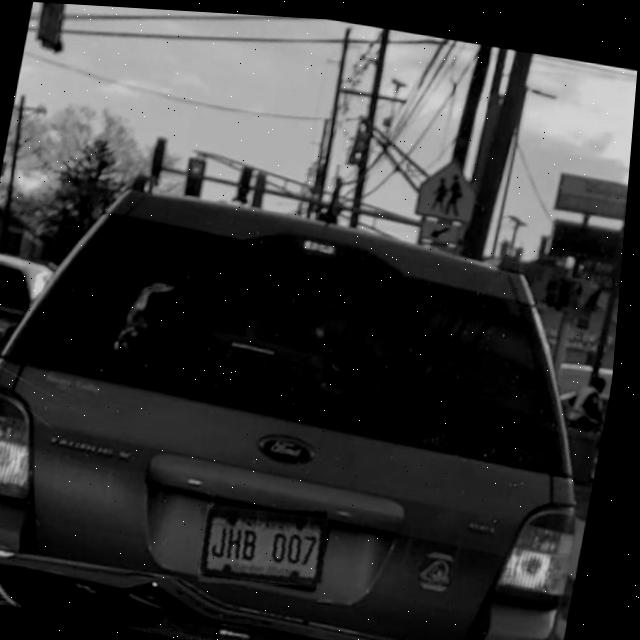LicensePlate: (208, 504, 336, 581)
